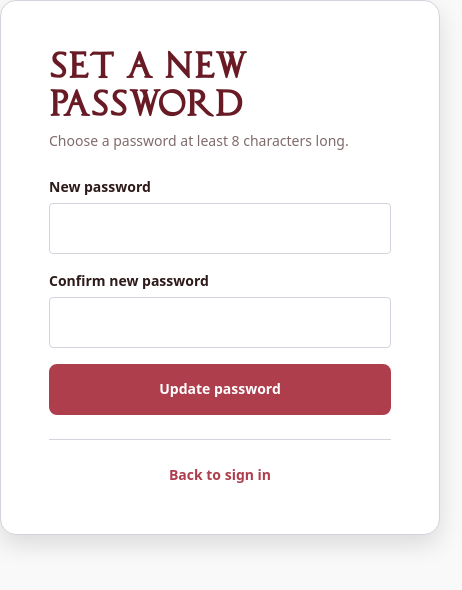
ResetPasswordPage — validation › shows an error when passwords do not match
Type "Password1" into the password field labelled "New password". click: (220, 228)
box: [49,203,391,254]
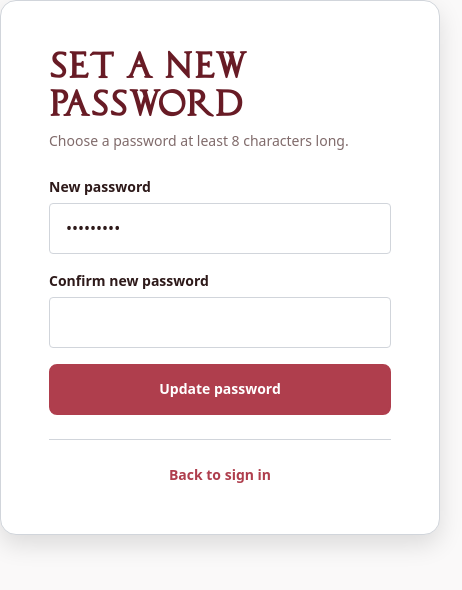
Type "Password2" into the password field labelled "Confirm new password". click: (220, 322)
box: [49,296,391,348]
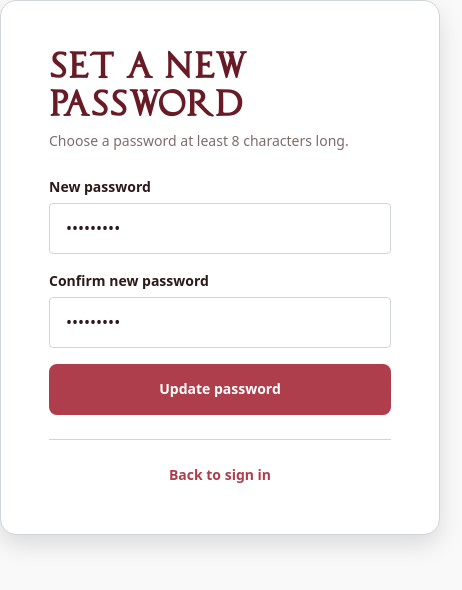
Click the button "Update password". click: (220, 389)
box: [49,364,391,414]
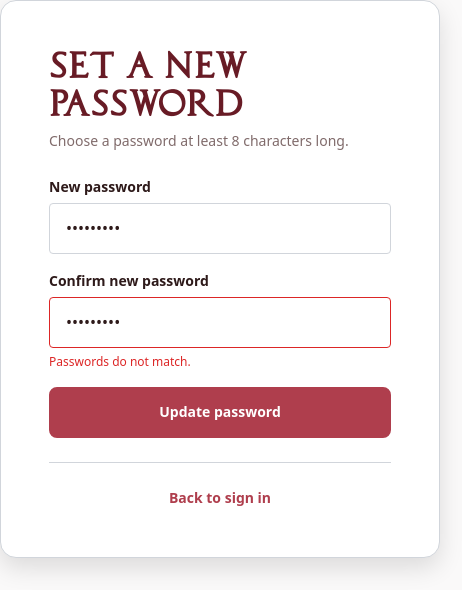
Expected: the text "Passwords do not match." is shown, [49,353,191,370]
